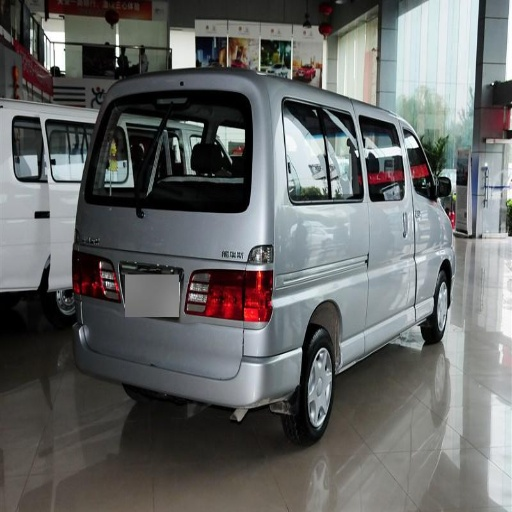back_bumper: (76, 299, 301, 409)
back_right_door: (283, 98, 325, 190)
trunk: (86, 206, 262, 372), (258, 195, 410, 351)
